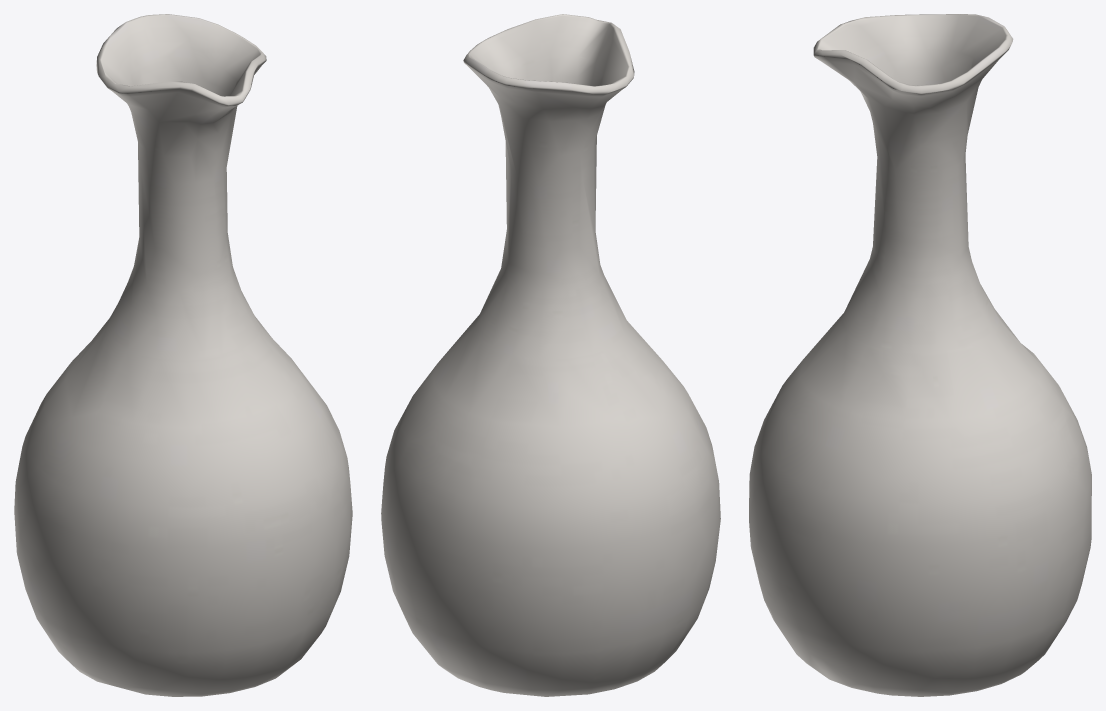
The model's file is ceramic-vase-01.glb.
3 renders of one model, left to right at view 1: azimuth 30°, elevation 25°; view 2: azimuth 150°, elevation 25°; view 3: azimuth 270°, elevation 25°, orthographic.
Parts seen in each view (by area): view 1: ceramic_vase_01; view 2: ceramic_vase_01; view 3: ceramic_vase_01.
Part boxes in pixels (x1,y1,x2,y2): ceramic_vase_01: [14, 14, 352, 696]; ceramic_vase_01: [381, 14, 720, 696]; ceramic_vase_01: [749, 14, 1091, 696].
Bounding box in the file's own units: 0.2031 × 0.4003 × 0.2018.
1 material, 1 textured.
